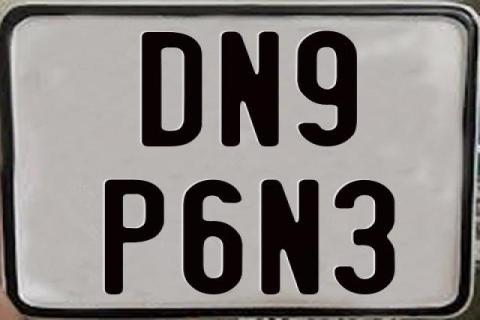0: (333, 179, 396, 297), (294, 28, 356, 146), (183, 180, 243, 296)
D: (140, 31, 202, 148)
N: (218, 29, 277, 149), (261, 178, 322, 294)
P: (102, 177, 166, 292)
